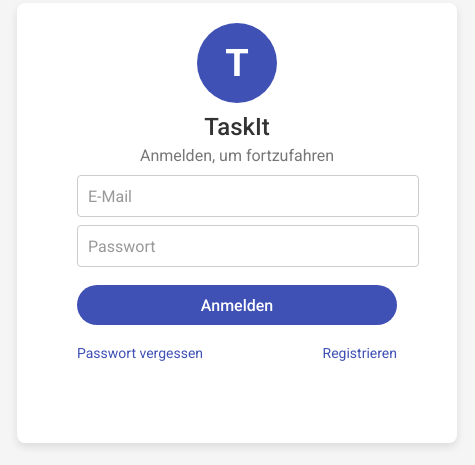
Login error on wrong userdate › should reject login with invalid credentials
In the field named "email": [248, 196] box top-left (77, 175), bottom-right (419, 217), type "wronguser"
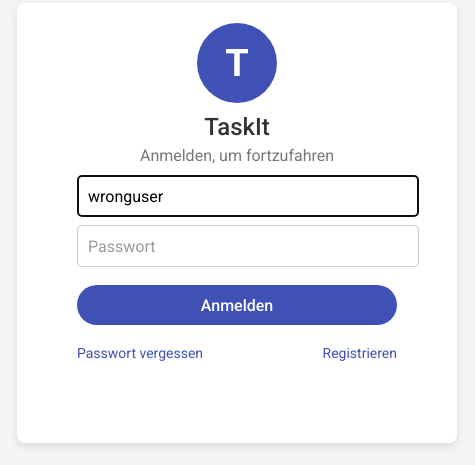
In the password field named "password": [248, 246] box top-left (77, 225), bottom-right (419, 267), type "wrongpass"
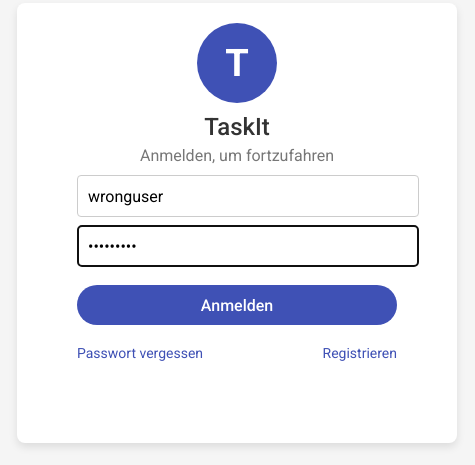
Click the submit button: [237, 305] box top-left (77, 285), bottom-right (397, 325)
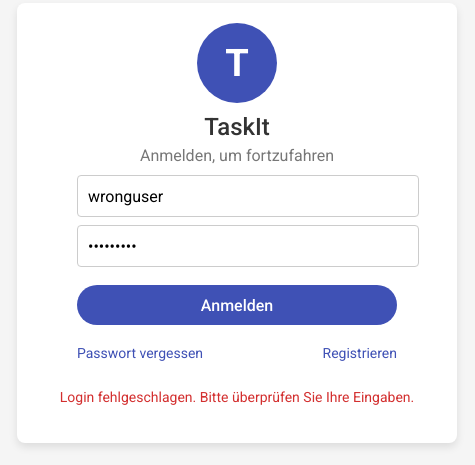
expect the text "Login fehlgeschlagen" is shown: met, box top-left (60, 389), bottom-right (415, 405)
